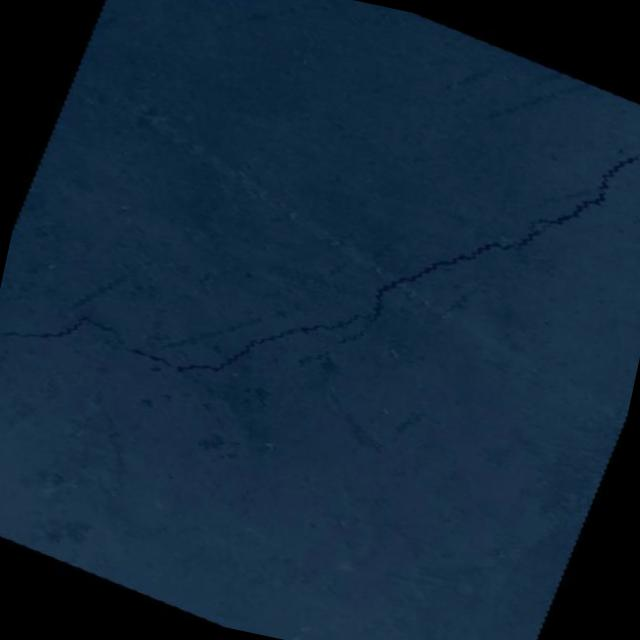crack: (0, 0, 640, 571), (200, 341, 326, 434), (274, 333, 333, 390), (0, 277, 37, 324)
